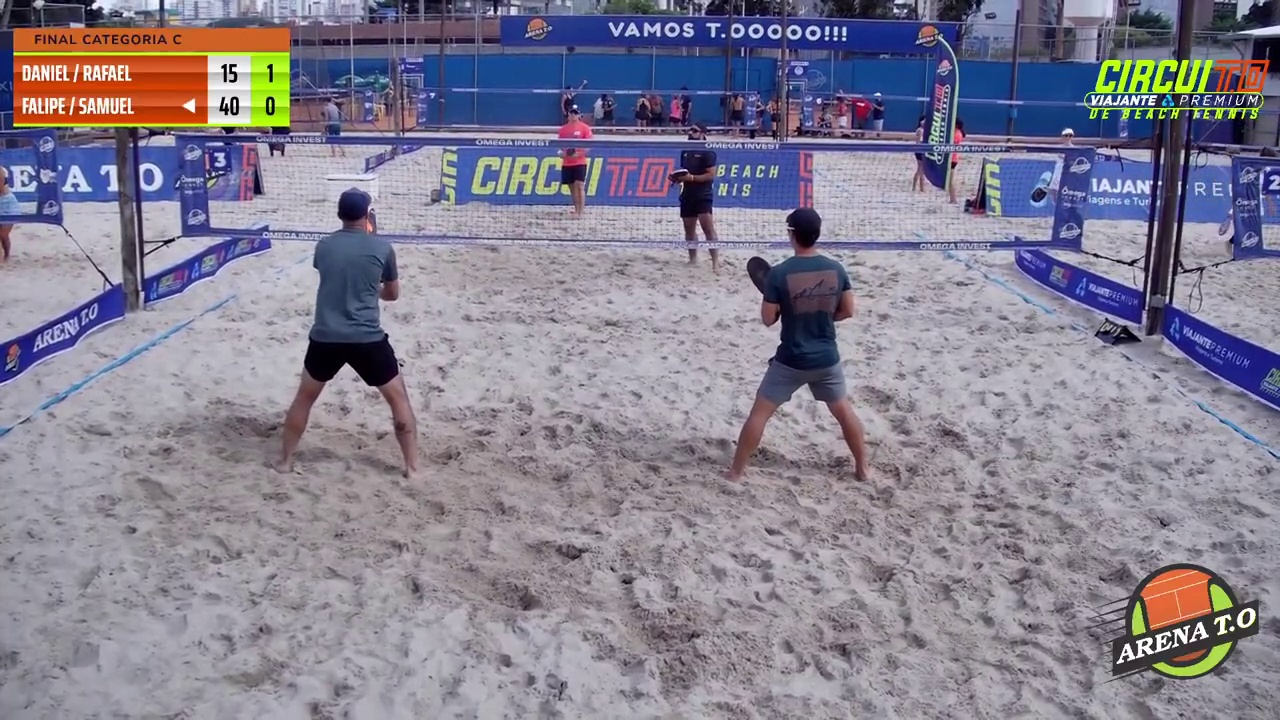court_line: (645, 0, 779, 350)
